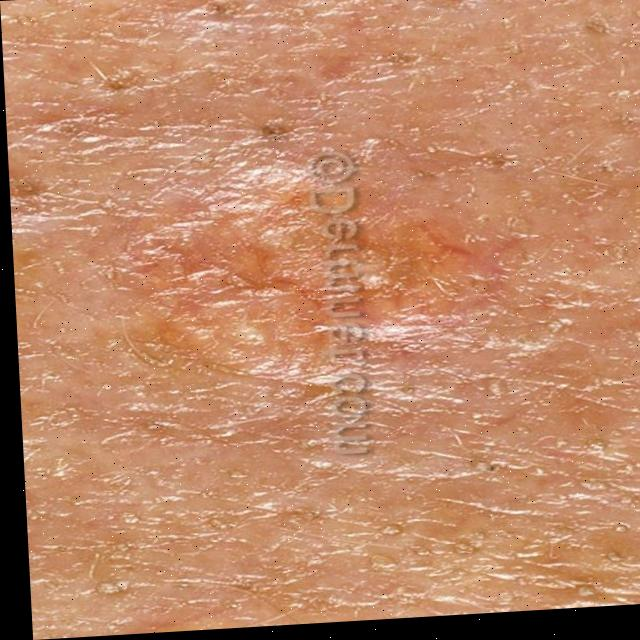Eczema: (104, 86, 514, 411)
